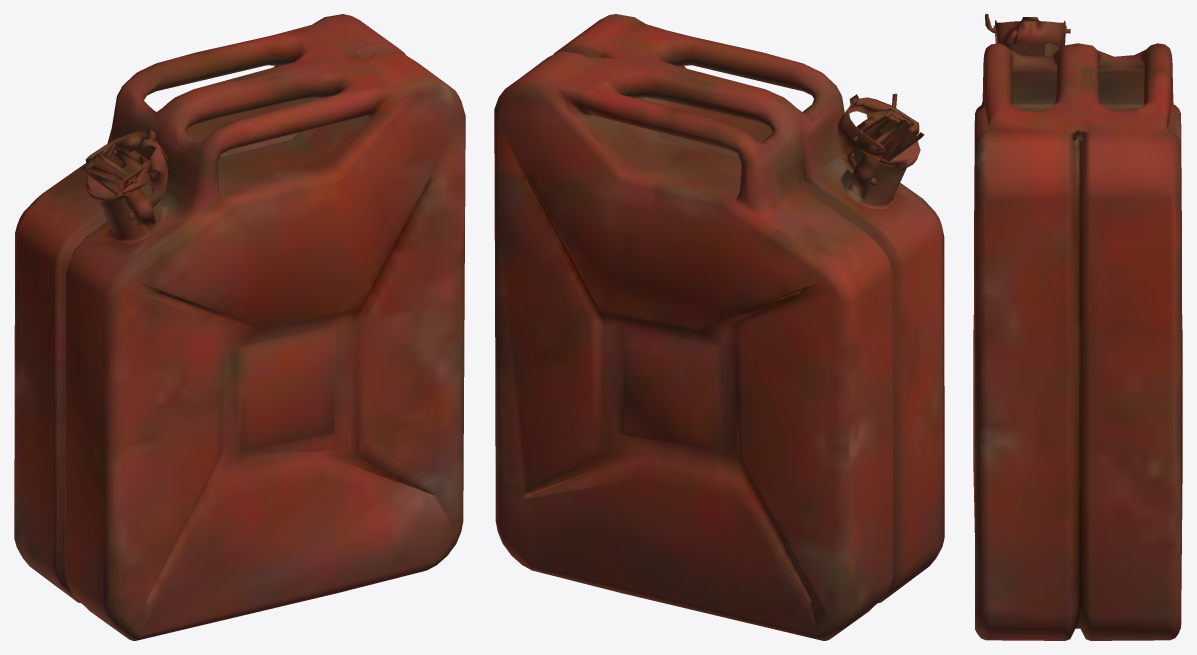
File: metal_jerrycan_lod2.glb
3 views of the same model, side by side, from view 1: azimuth 30°, elevation 25°; view 2: azimuth 150°, elevation 25°; view 3: azimuth 270°, elevation 25° (orthographic). The views are drawn at different scales.
Visible parts, largest first — view 1: metal_jerrycan; view 2: metal_jerrycan; view 3: metal_jerrycan.
Boxes of the visible parts, x1,y1,x2,y2 form: metal_jerrycan: (14,14,465,640); metal_jerrycan: (494,14,944,640); metal_jerrycan: (973,14,1182,640).
Bounding box in the file's own units: 0.3492 × 0.4548 × 0.1717.
Materials: 1 (1 with a texture image).
